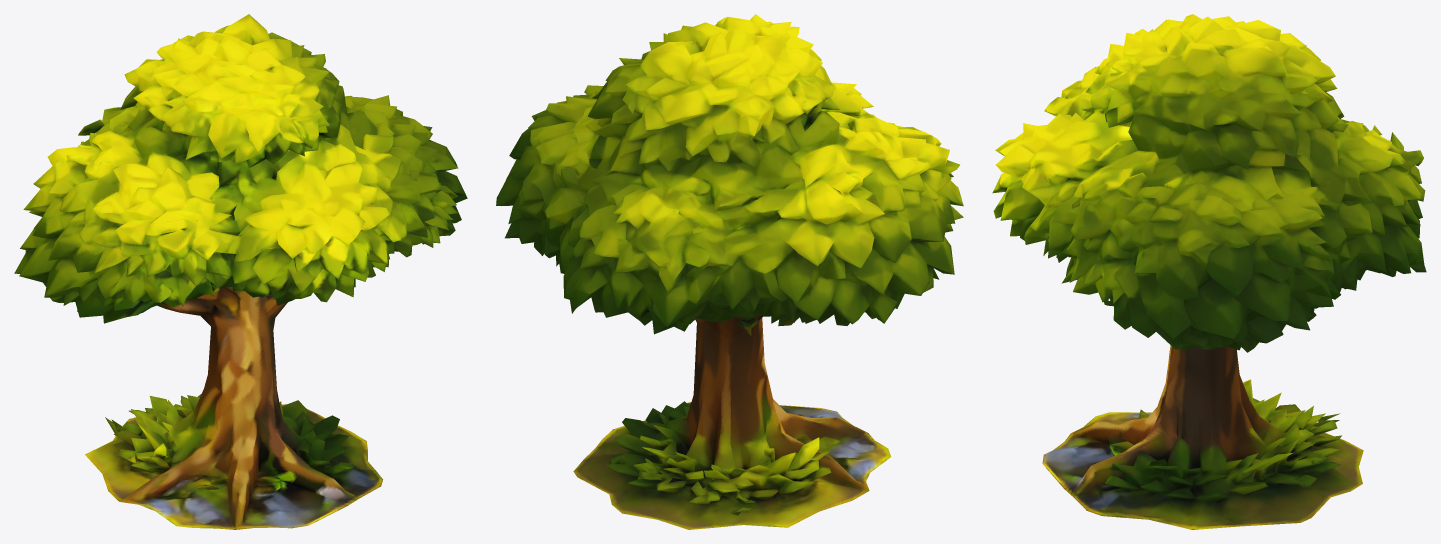
Rendered from Arbol.fbx.
3 views of the same model, side by side, from view 1: azimuth 30°, elevation 25°; view 2: azimuth 150°, elevation 25°; view 3: azimuth 270°, elevation 25° (orthographic). The views are drawn at different scales.
Visible parts, largest first — view 1: model; view 2: model; view 3: model.
Part boxes in pixels (<box>): model: <box>14,14,467,529</box>; model: <box>496,14,963,529</box>; model: <box>992,14,1426,529</box>.
Bounding box in the file's own units: 190 × 186 × 164.
